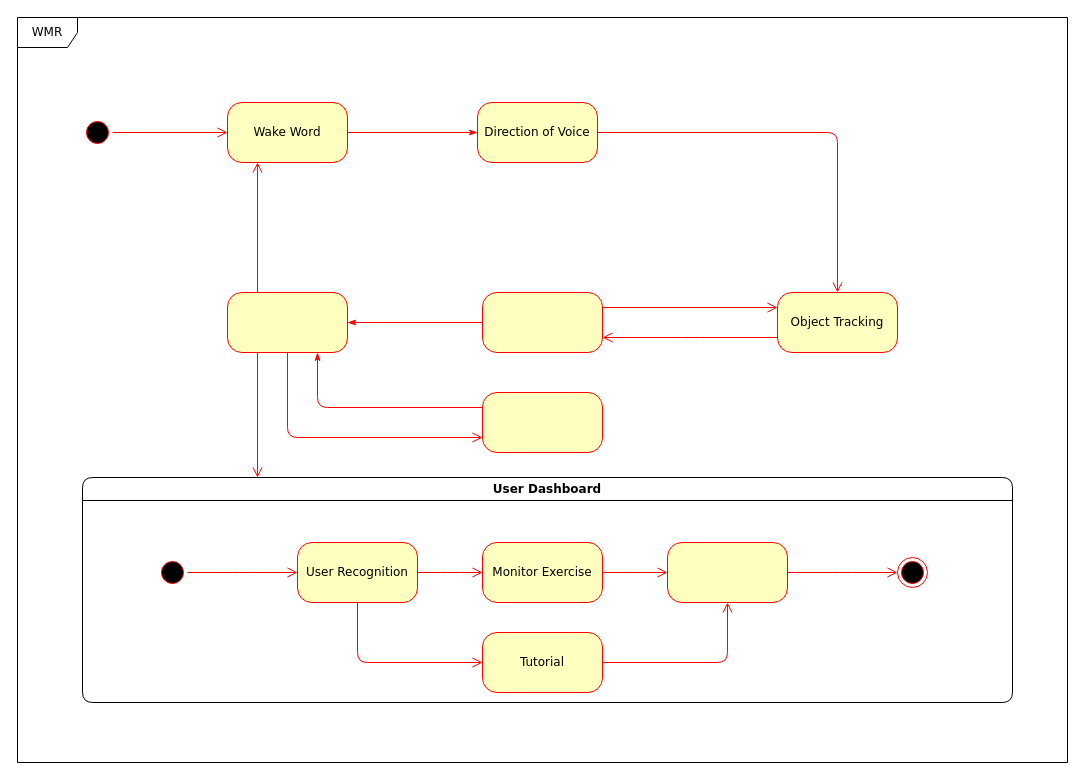
The diagram is 1085 pixels wide and 780 high, and some of its shapes have lost their labels. Here are the shapes that lost their labels. From the top down, the centre of each, then its label:
the point at 287,322: Face Recognition
the point at 542,322: Autonomous Navigation
the point at 542,422: rPPG
the point at 727,572: Screen/Microphone Output
